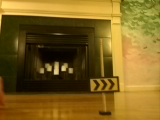right: (89, 77, 119, 90)
